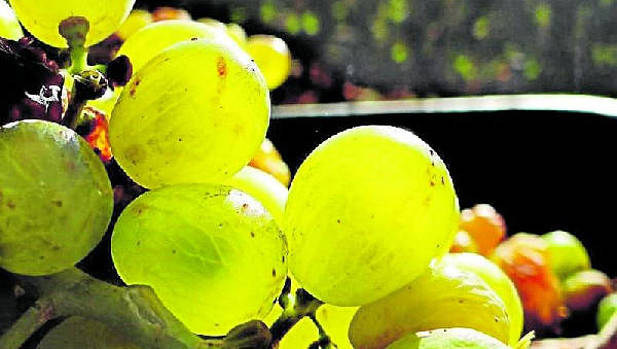Green grapes: (17, 47, 475, 349)
